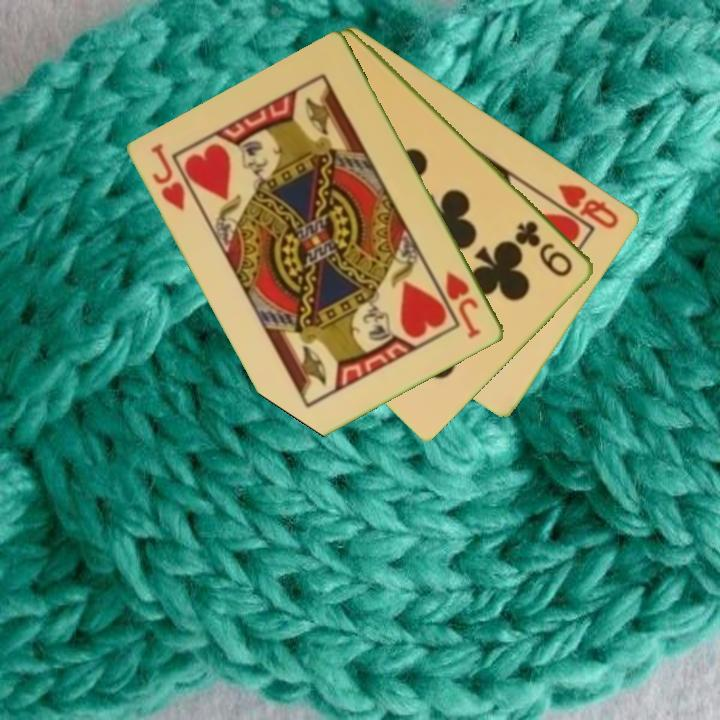9c: (513, 217, 576, 280)
Jh: (442, 268, 484, 342), (148, 140, 189, 214)
Qh: (554, 180, 622, 232)
